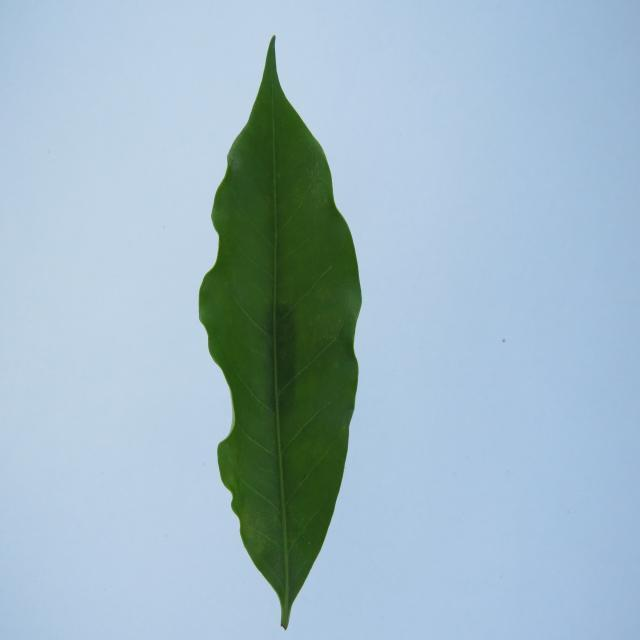DeficienciaNutricional-Calcio: (199, 38, 361, 628)
